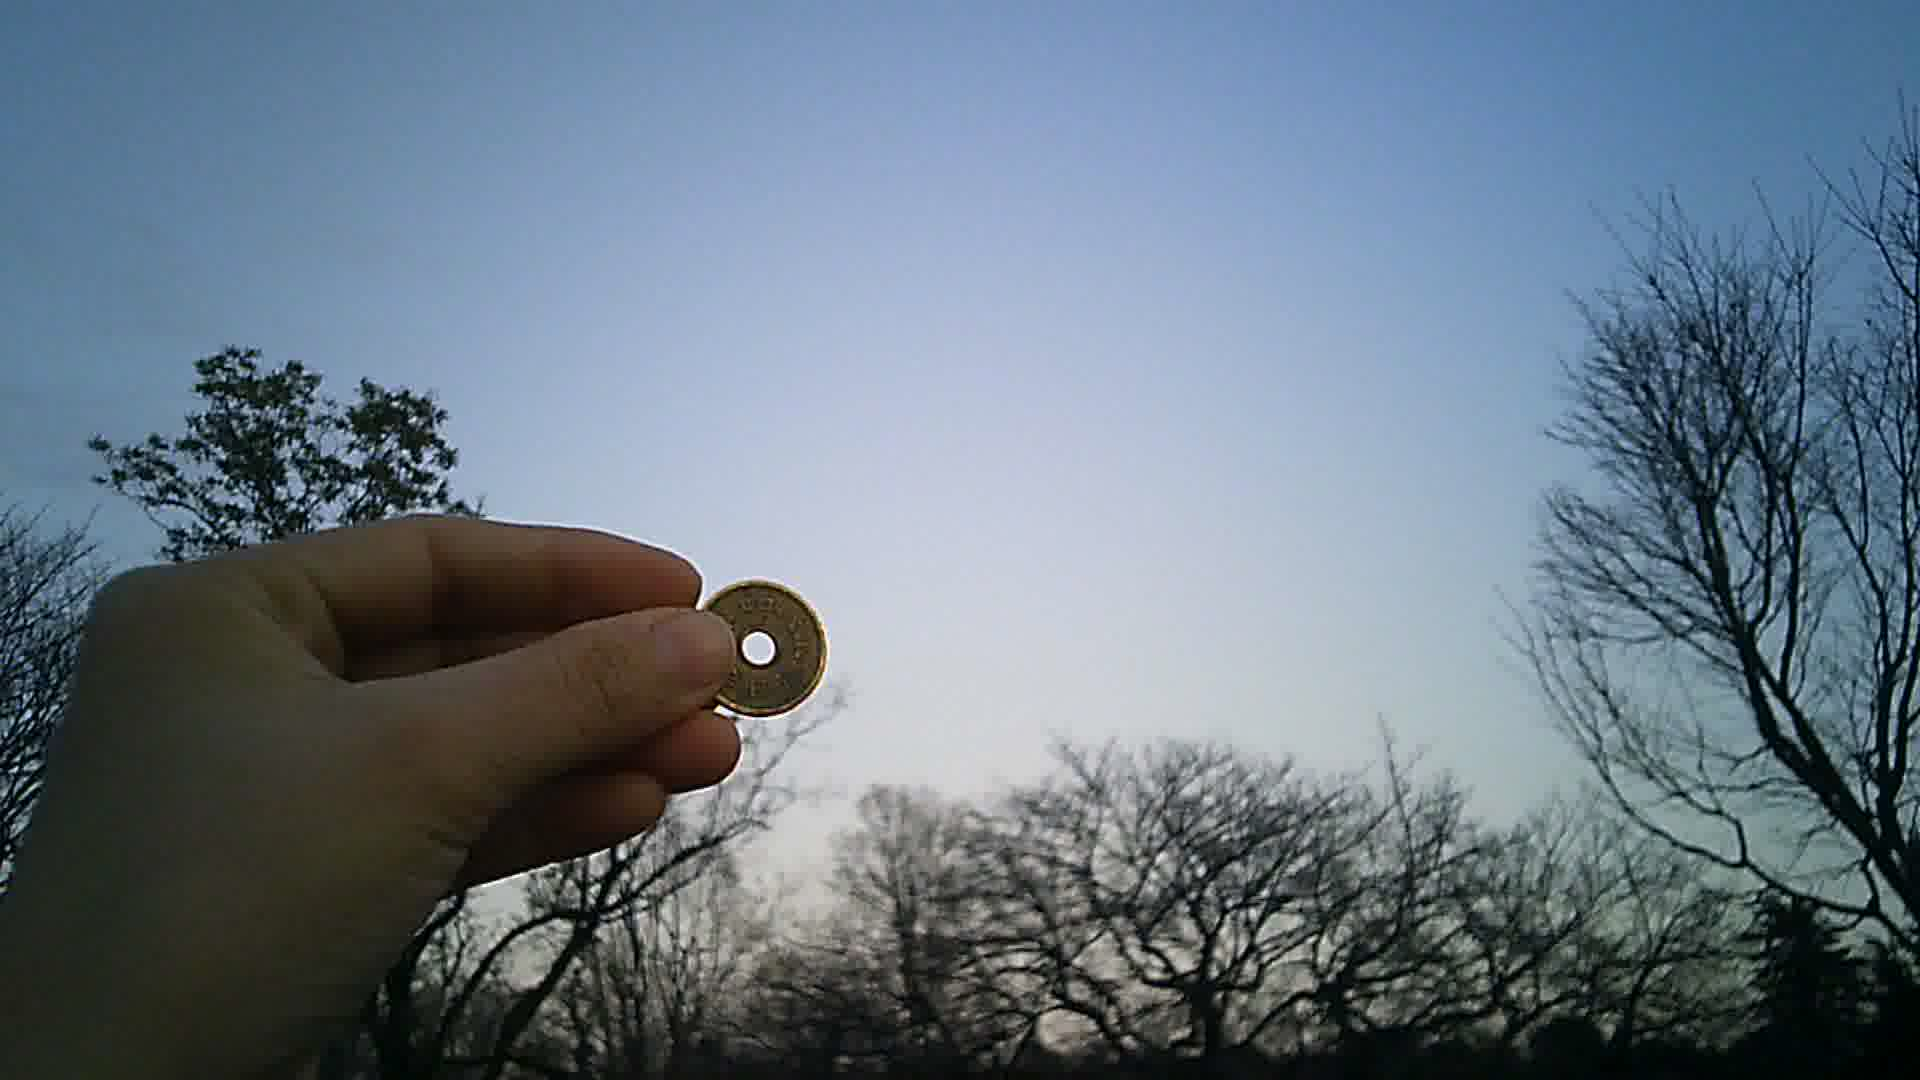5 Yen: (675, 574, 829, 709)
